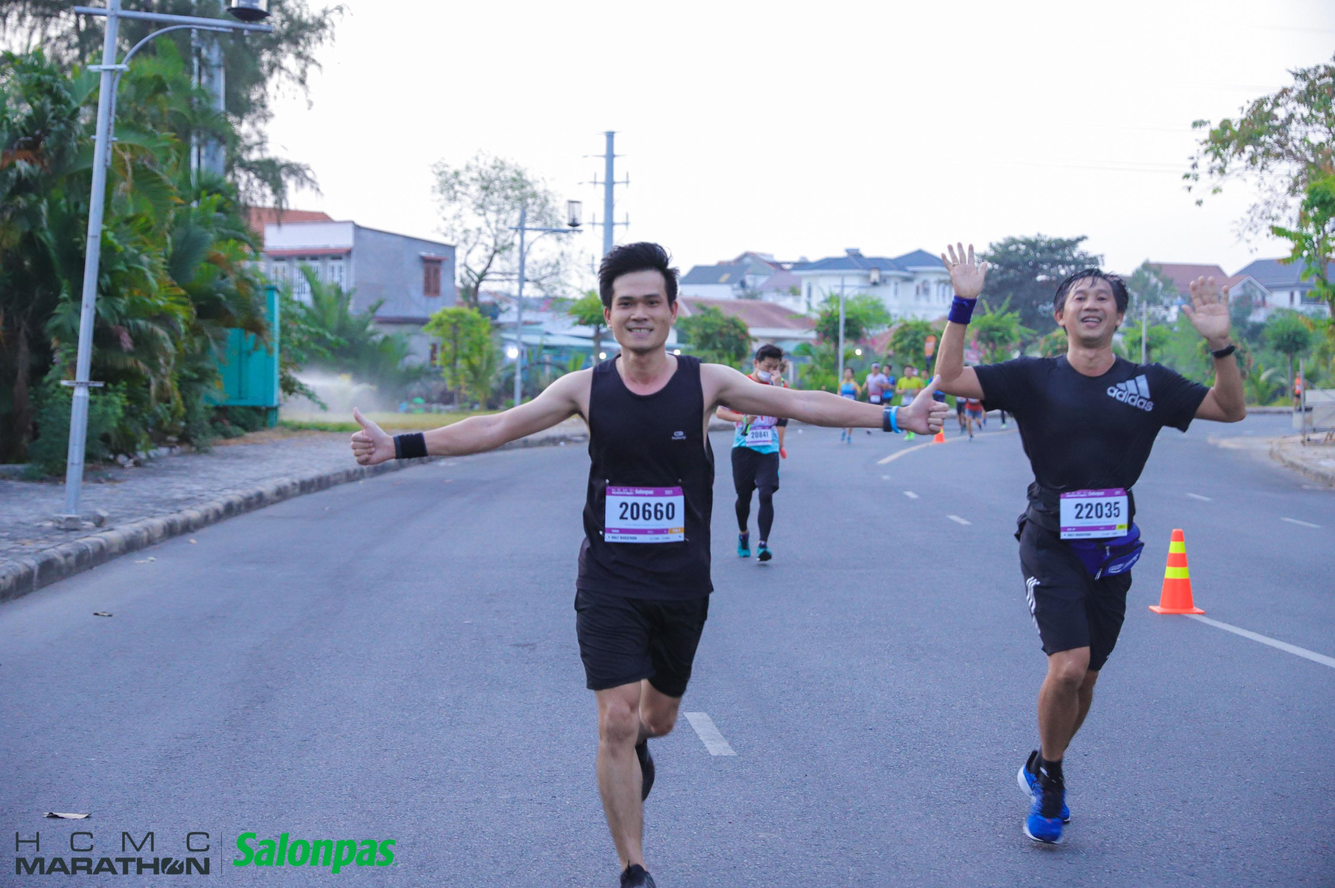bib: (603, 485, 686, 542), (1060, 491, 1126, 537), (745, 427, 771, 445)
